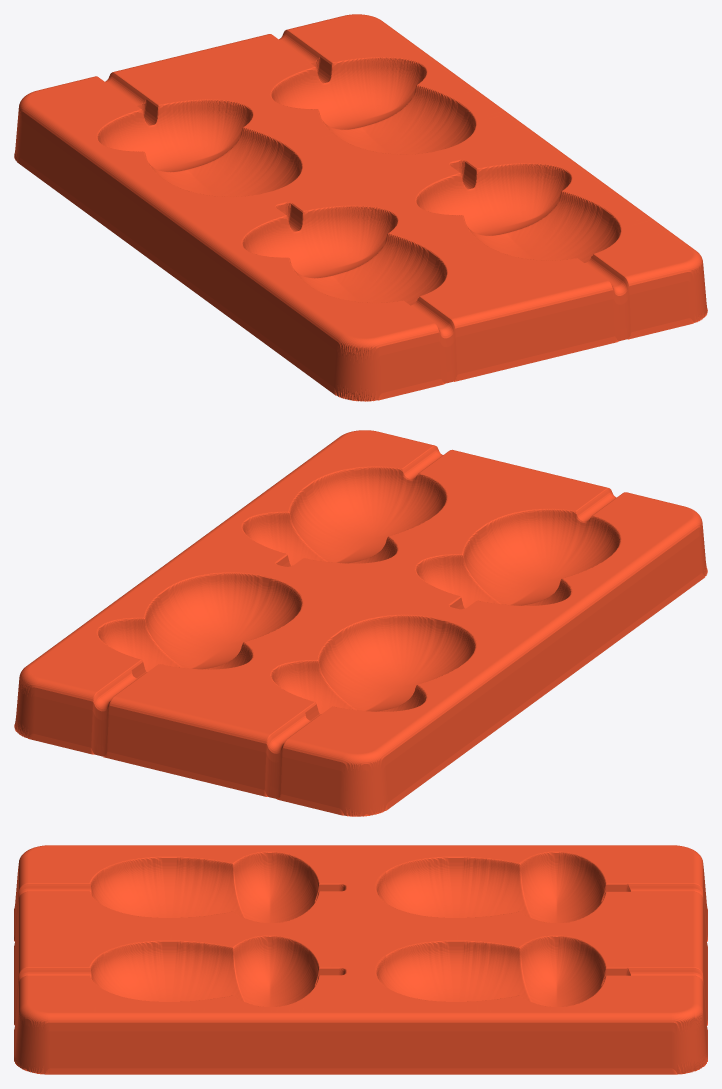
Rendered from mold.glb.
3 views of the same model, one above another, from view 1: azimuth 30°, elevation 25°; view 2: azimuth 150°, elevation 25°; view 3: azimuth 270°, elevation 25° (orthographic).
Parts seen in each view (by area): view 1: geometry_0; view 2: geometry_0; view 3: geometry_0.
Part boxes in pixels (x1,y1,x2,y2): geometry_0: (14,14,707,401); geometry_0: (14,430,707,816); geometry_0: (14,845,707,1074).
Size of the model in its own units: 0.1056 by 0.0155 by 0.1735.
